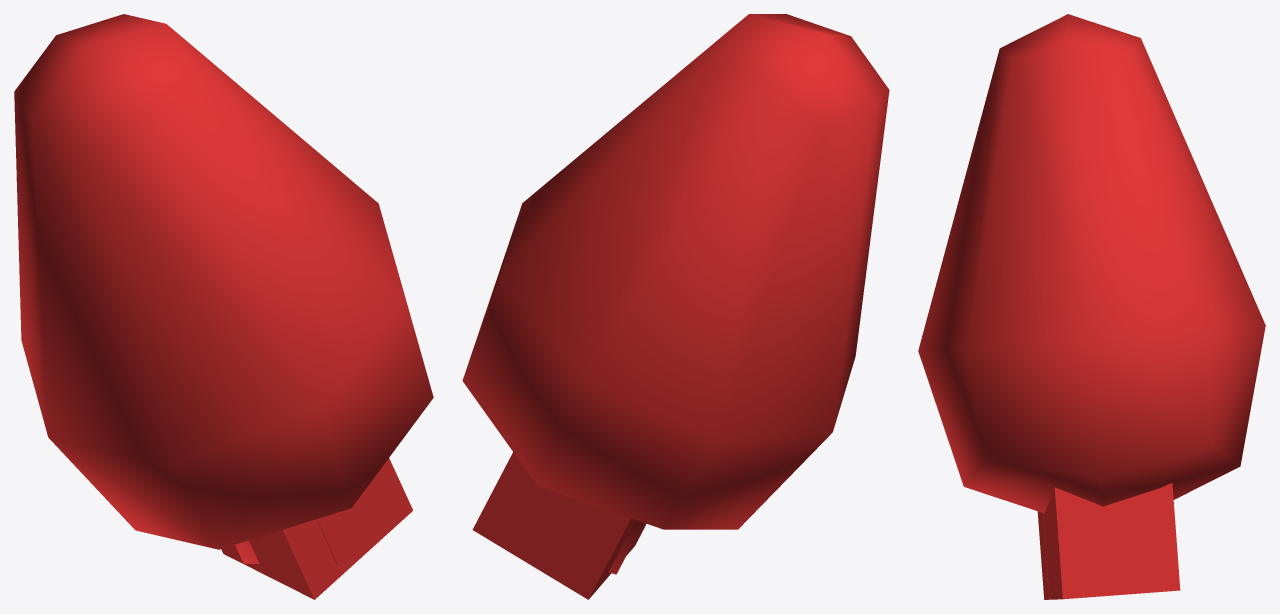
Rendered from Light 3.fbx.
3 renders of one model, left to right at view 1: azimuth 30°, elevation 25°; view 2: azimuth 150°, elevation 25°; view 3: azimuth 270°, elevation 25°, orthographic. The views are drawn at different scales.
Parts seen in each view (by area): view 1: Cube.008; view 2: Cube.008; view 3: Cube.008.
Part boxes in pixels (x1=…): Cube.008: x1=14, y1=14, x2=433, y2=599; Cube.008: x1=462, y1=14, x2=889, y2=599; Cube.008: x1=918, y1=14, x2=1265, y2=599.
Size of the model in its own units: 18.69 by 27.86 by 17.5.
